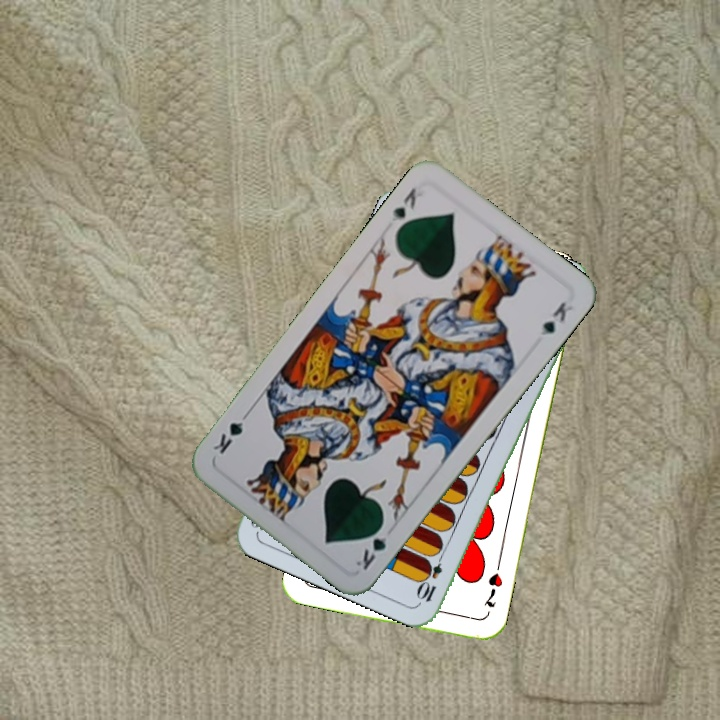E10: (415, 547, 447, 605)
GK: (352, 519, 392, 573), (387, 183, 419, 225)
H7: (479, 559, 506, 610)
